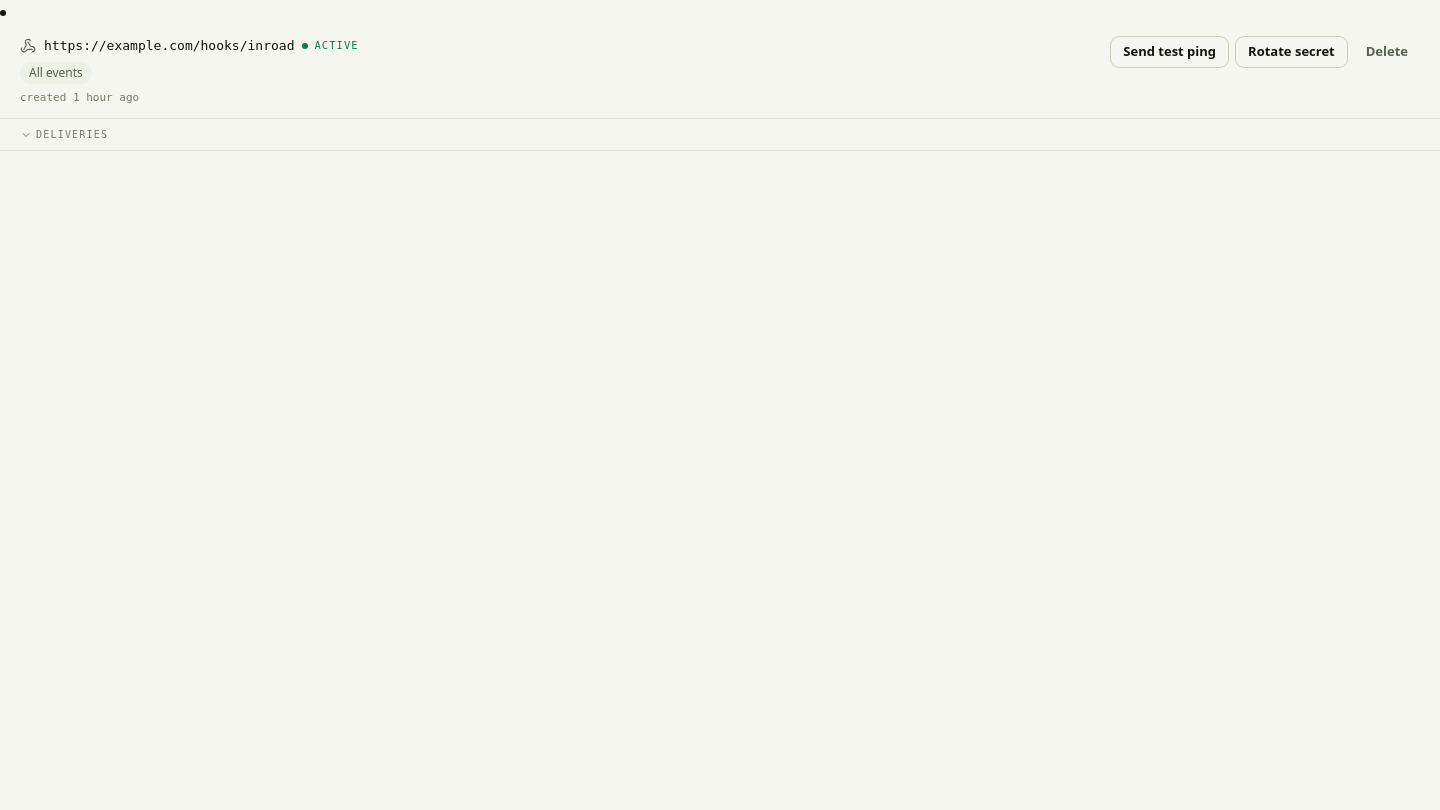
cancelling the delete confirmation sends nothing
Click the button "Delete" at x=1387, y=52, box [1354,36,1420,68]
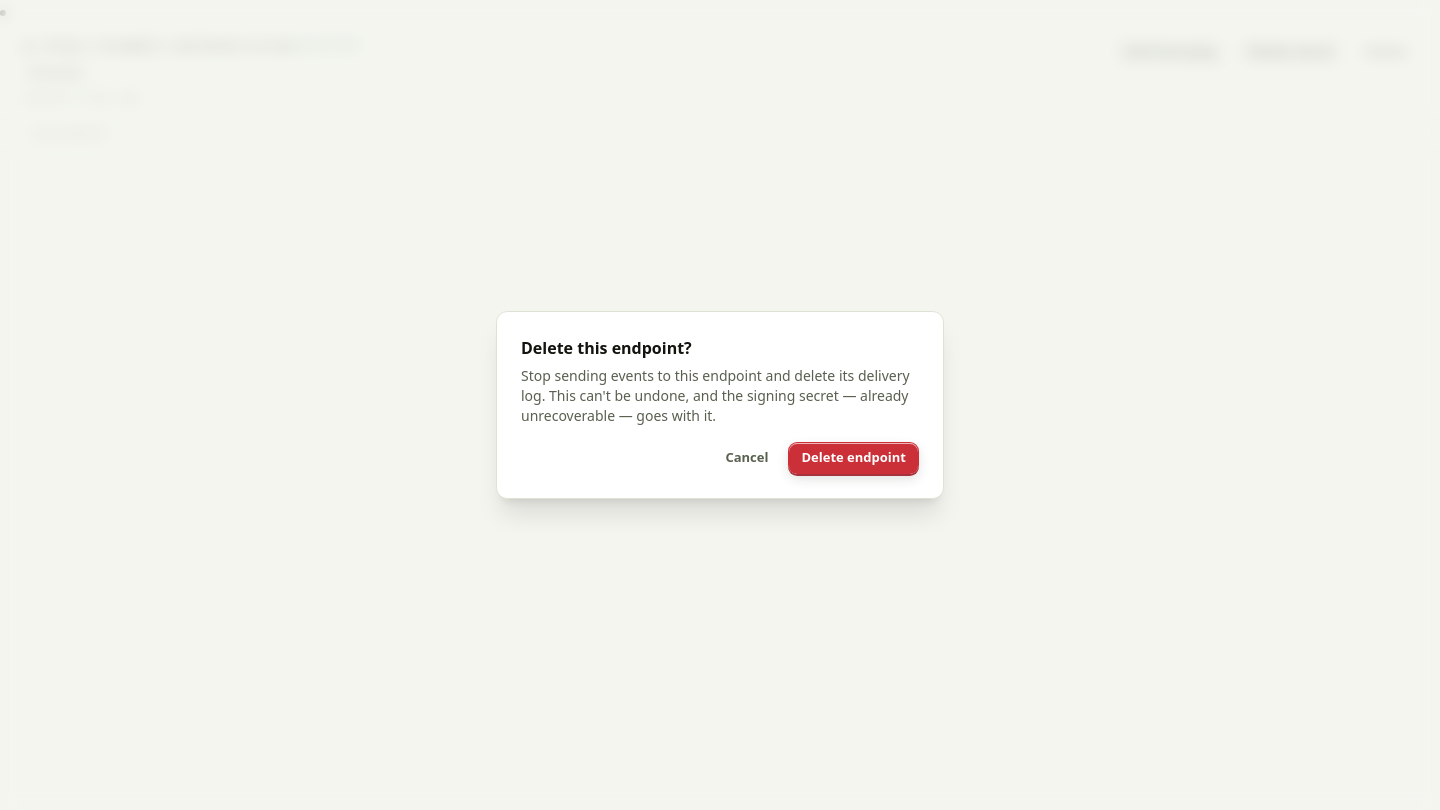
expect the text "can't be undone" is shown: met, box [521,366,910,425]
Click the button "Cancel" at x=747, y=458, box [713,442,780,474]
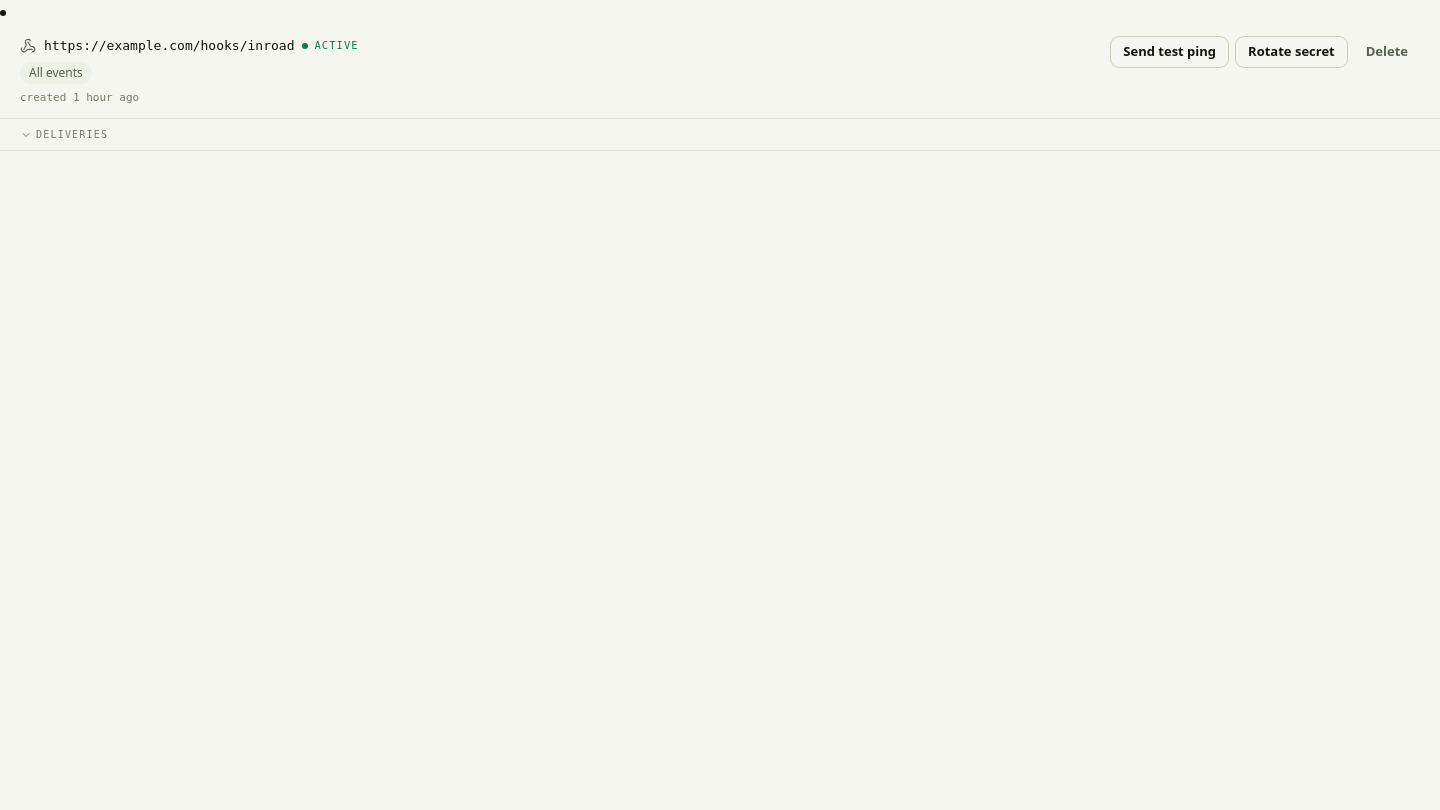
expect the text "can't be undone" is gone: met
